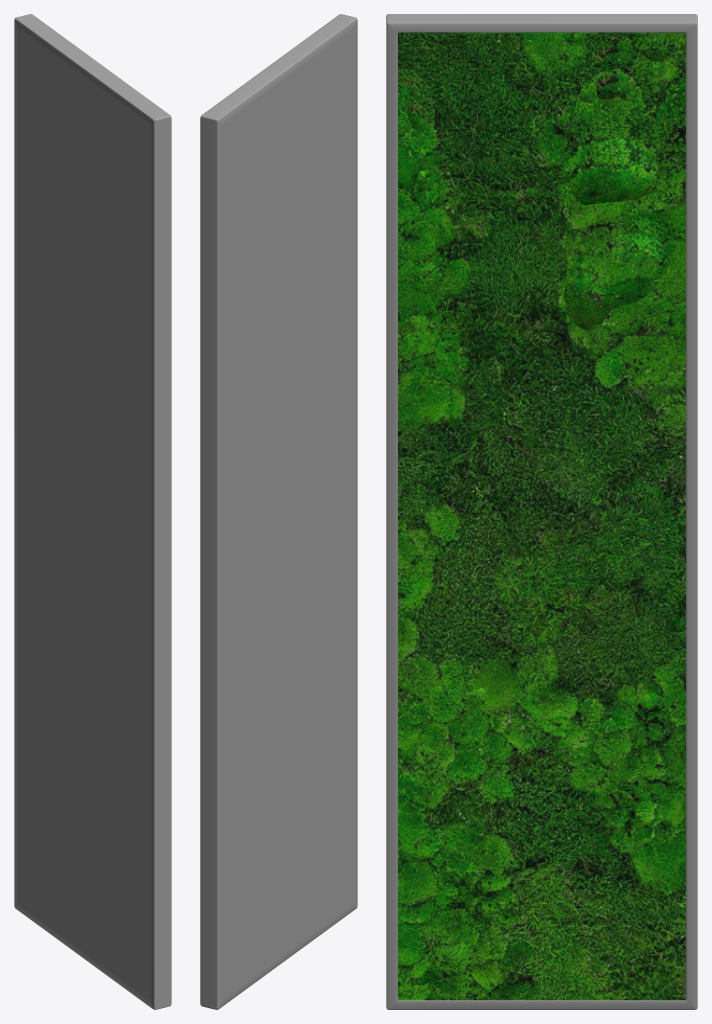
The model's file is Moosbild_Hugelmoos_1400x400mm_white.fbx.
3 views of the same model, side by side, from view 1: azimuth 30°, elevation 25°; view 2: azimuth 150°, elevation 25°; view 3: azimuth 270°, elevation 25° (orthographic). The views are drawn at different scales.
Visible parts, largest first — view 1: edge; view 2: edge; view 3: moss_low, edge, moss11.
Part boxes in pixels (box(x1,y1,x2,y2)): edge: box(14, 14, 171, 1009); edge: box(200, 14, 357, 1009); moss_low: box(398, 33, 685, 1000); edge: box(386, 14, 697, 1009); moss11: box(398, 32, 685, 994).
Size of the model in its own units: 4.56 by 140 by 40.
2 materials, 1 textured.
